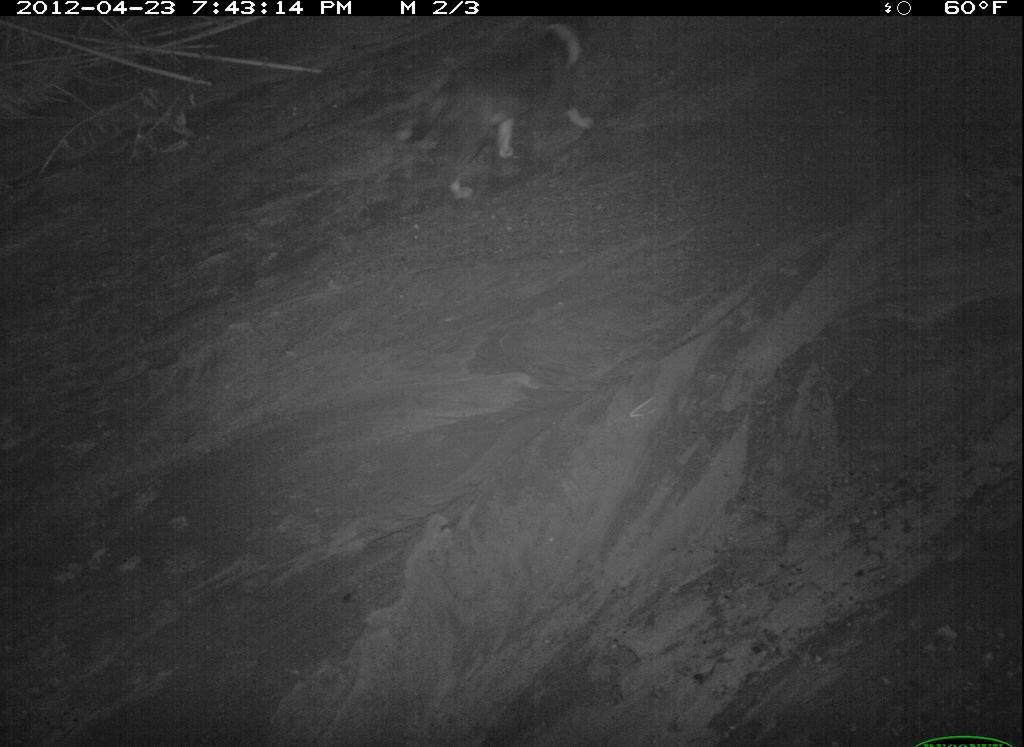dog: (781, 39, 1024, 415)
